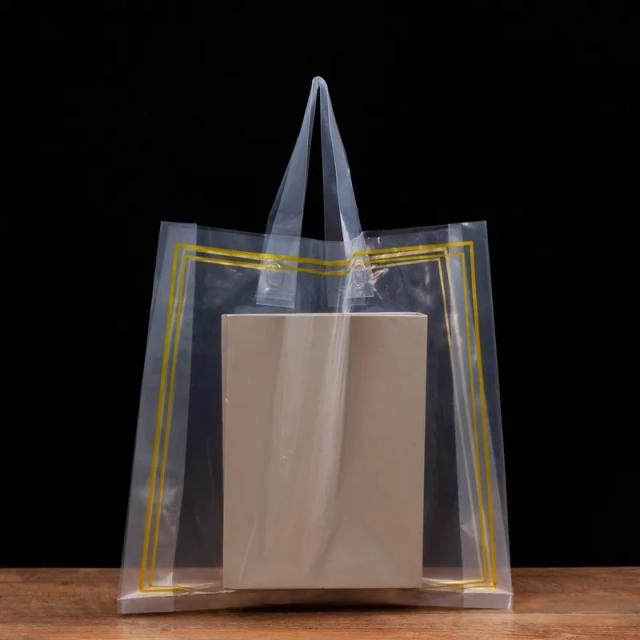plastic_bag: (128, 58, 507, 603)
